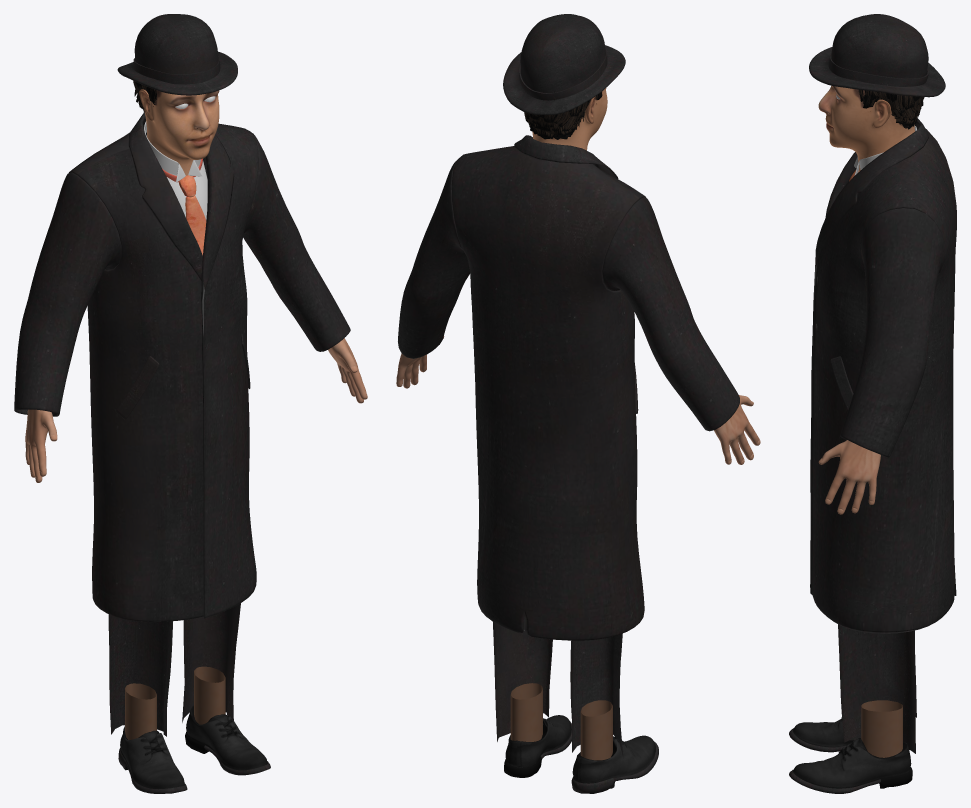
File: MA_AVERAGE_MAN_EXPORT.fbx
3 views of the same model, side by side, from view 1: azimuth 30°, elevation 25°; view 2: azimuth 150°, elevation 25°; view 3: azimuth 270°, elevation 25° (orthographic).
Visible parts, largest first — view 1: COAT, TROUSERS, SHOES, HAT, TESTA, LEGS, HANDS, SHIRT, TIE, POCKETS, HAT_BAND; view 2: COAT, TROUSERS, HAT, SHOES, LEGS, HANDS, HAIR, TESTA, HAT_BAND; view 3: COAT, HAT, TROUSERS, SHOES, TESTA, HANDS, LEGS, HAIR, HAT_BAND, POCKETS.
Part boxes in pixels (box(x1,y1,x2,y2)): COAT: box(14, 112, 350, 621); TROUSERS: box(108, 603, 240, 736); SHOES: box(118, 705, 270, 793); HAT: box(117, 14, 237, 95); TESTA: box(139, 89, 219, 175); LEGS: box(125, 666, 225, 739); HANDS: box(25, 338, 367, 482); SHIRT: box(144, 121, 207, 219); TIE: box(162, 158, 206, 255); POCKETS: box(116, 334, 250, 419); HAT_BAND: box(133, 56, 220, 84); COAT: box(398, 135, 739, 640); TROUSERS: box(493, 615, 623, 758); HAT: box(503, 14, 625, 114); SHOES: box(504, 715, 658, 793); LEGS: box(510, 683, 612, 760); HANDS: box(396, 336, 760, 464); HAIR: box(524, 91, 602, 139); TESTA: box(532, 88, 607, 150); HAT_BAND: box(519, 50, 607, 100); COAT: box(810, 118, 956, 633); HAT: box(809, 14, 945, 97); TROUSERS: box(838, 624, 916, 753); SHOES: box(789, 717, 912, 793); TESTA: box(818, 85, 918, 171); HANDS: box(818, 440, 880, 514); LEGS: box(861, 700, 902, 757); HAIR: box(858, 89, 924, 129); HAT_BAND: box(828, 52, 928, 86); POCKETS: box(830, 356, 853, 411).
Bounding box in the file's own units: 79.94 × 170 × 34.7.
